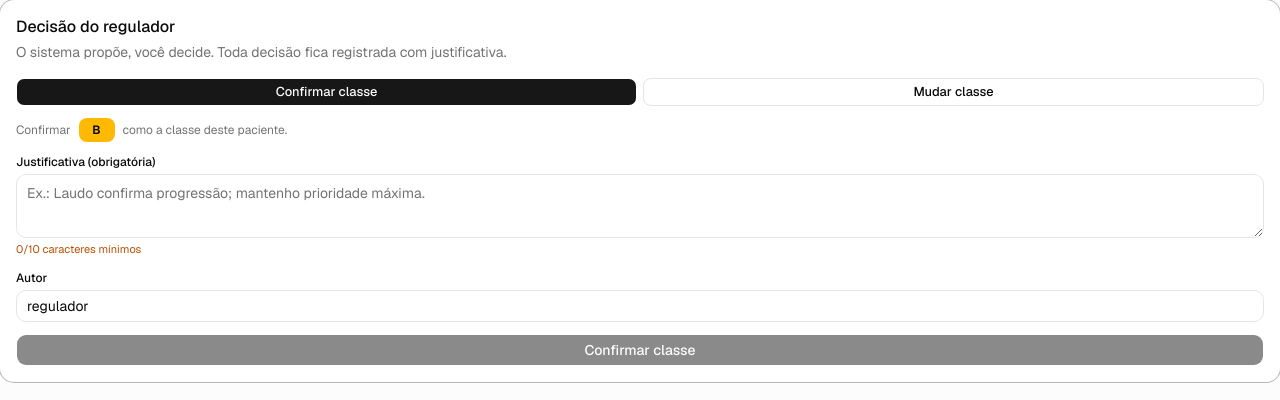
PainelDecisao: justificativa obrigatória › 9 caracteres não bastam; 10 liberam o envio
Type "123456789" into the text box labelled "Justificativa (obrigatória) 0/10 caracteres mínimos". click: x=640, y=206
box: [16,174,1264,238]
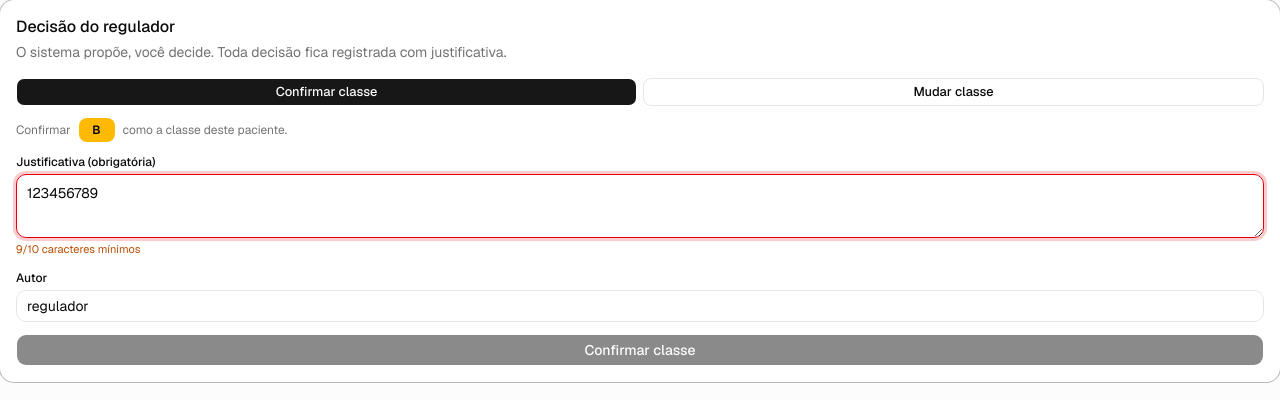
Expected: the 2nd button "Confirmar classe" is disabled, [16,334,1264,366]
Expected: the text "9/10 caracteres mínimos" is shown, [16,242,140,256]
Type "0" into the text box labelled "Justificativa (obrigatória) 9/10 caracteres mínimos". click: x=640, y=206
box: [16,174,1264,238]
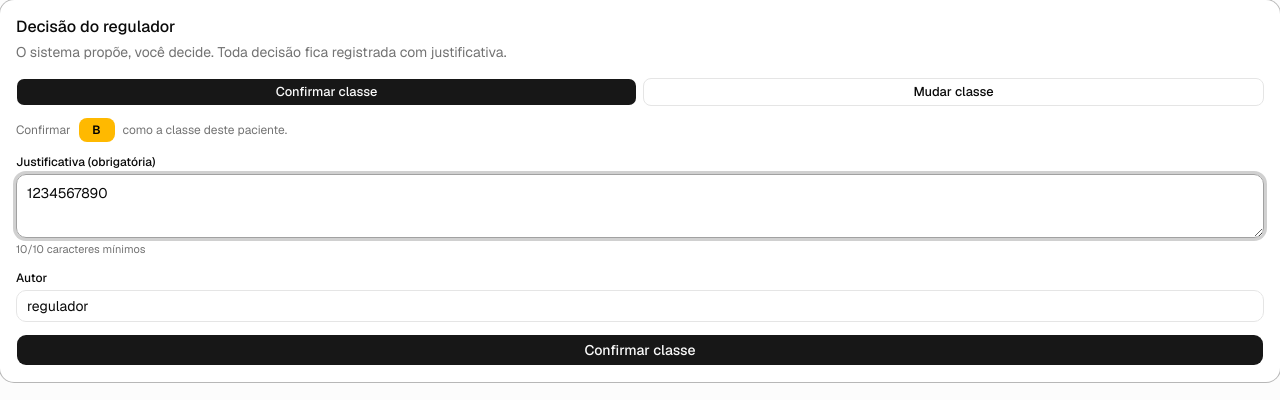
Expected: the 2nd button "Confirmar classe" is enabled, [16,334,1264,366]
